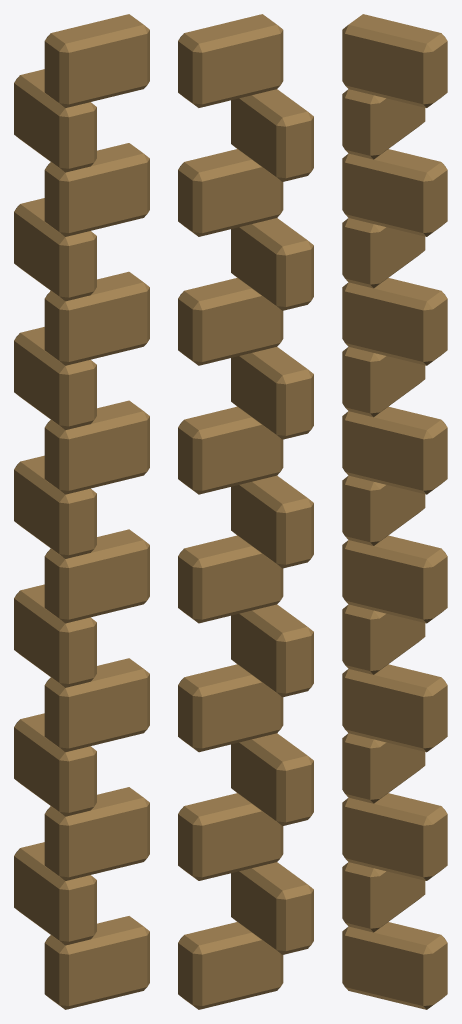
The model's file is CornerBricksD.fbx.
The picture shows the model from 3 angles, left to right: view 1: azimuth 30°, elevation 25°; view 2: azimuth 210°, elevation 25°; view 3: azimuth 330°, elevation 25°; orthographic projection.
Visible parts, largest first — view 1: CornerBricksD; view 2: CornerBricksD; view 3: CornerBricksD.
Part boxes in pixels (x1,y1,x2,y2): CornerBricksD: (14, 14, 149, 1009); CornerBricksD: (178, 14, 313, 1009); CornerBricksD: (342, 14, 447, 1009).
Size of the model in its own units: 29.48 by 300 by 29.48.
